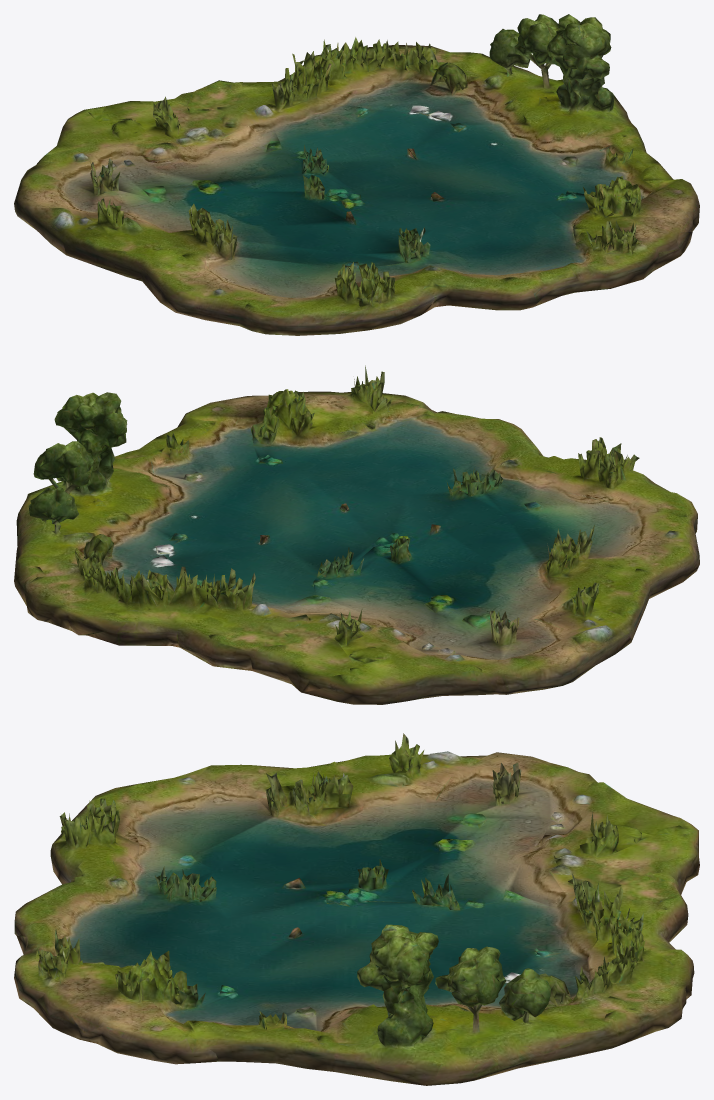
Rendered from city_balikesir_manyas_islet.glb.
3 renders of one model, top to bottom at view 1: azimuth 30°, elevation 25°; view 2: azimuth 150°, elevation 25°; view 3: azimuth 270°, elevation 25°, orthographic. The views are drawn at different scales.
Parts seen in each view (by area): view 1: Mesh1.0; view 2: Mesh1.0; view 3: Mesh1.0.
Part boxes in pixels (x1,y1,x2,y2): Mesh1.0: [14, 14, 699, 335]; Mesh1.0: [14, 365, 699, 704]; Mesh1.0: [14, 733, 699, 1085].
Bounding box in the file's own units: 26.52 × 5 × 24.34.
Materials: 1 (1 with a texture image).
